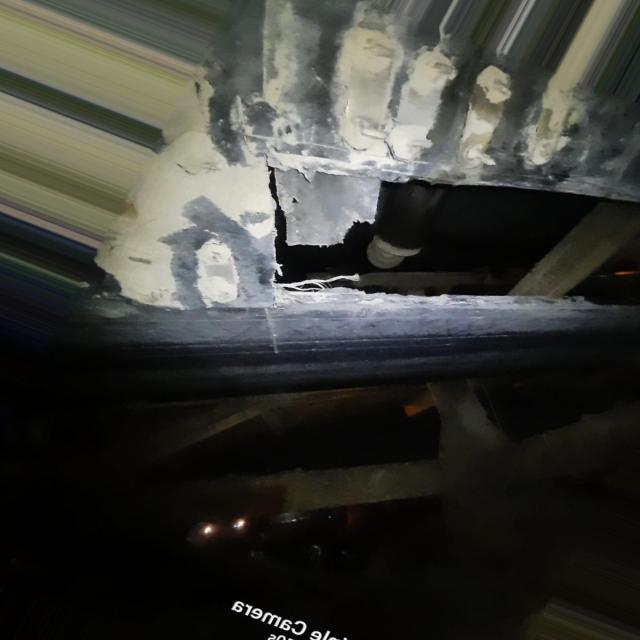Hole: (271, 167, 640, 309)
